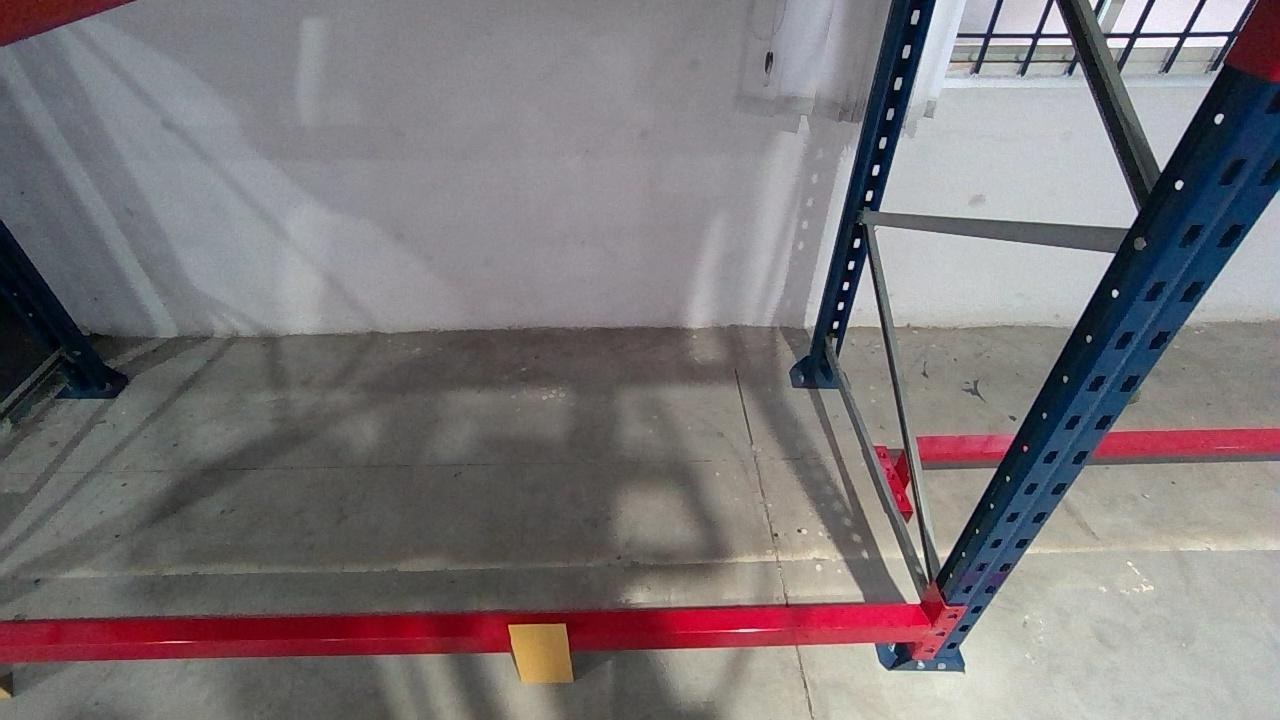h_rack: (0, 616, 931, 665)
orange_strip: (506, 622, 575, 682)
